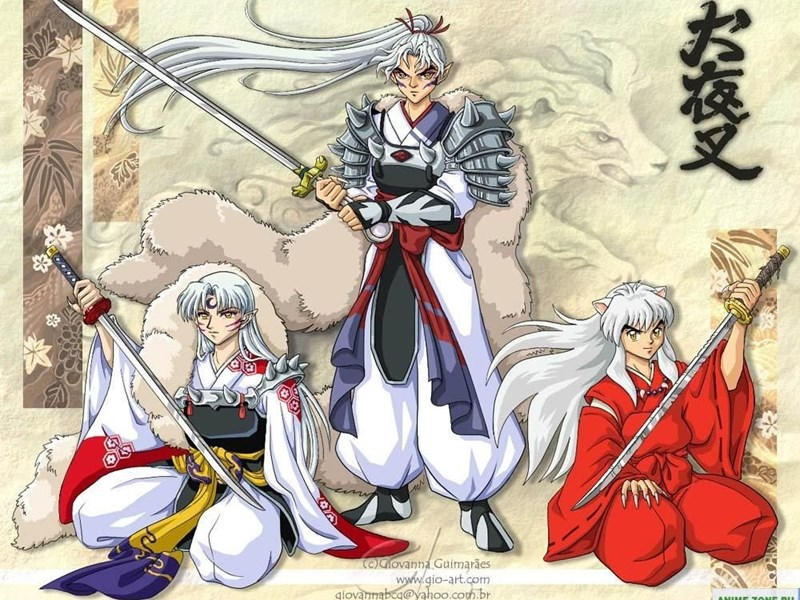sesshomaru: (159, 271, 275, 374)
